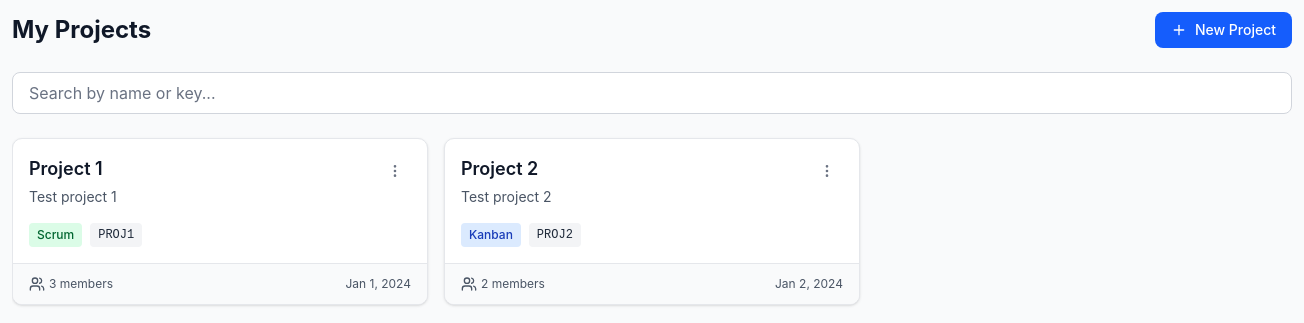
Test case: ProjectListPage › should filter projects by key
The image size is (1304, 323).
Type "PROJ2" into the field with placeholder "Search by name or key..." at [652, 93], box left=12, top=72, right=1292, bottom=114
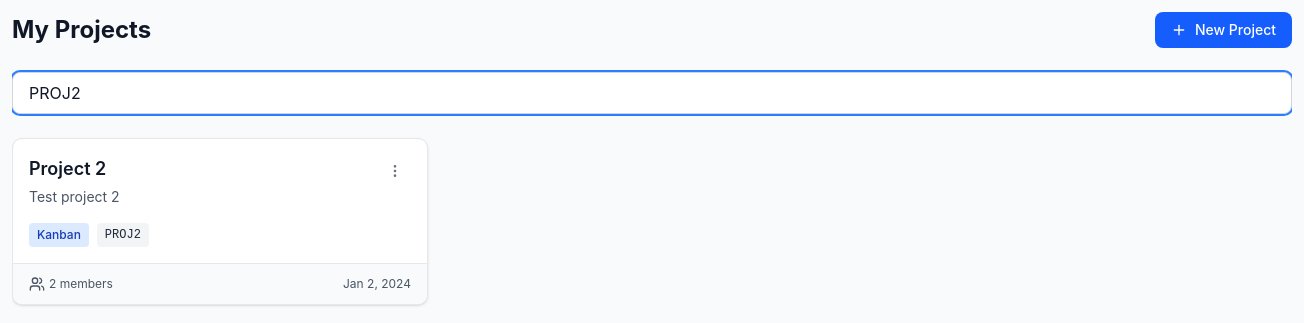
Expected: the heading "Project 2" is shown, left=29, top=158, right=106, bottom=179
Now the heading "Project 1" is gone
